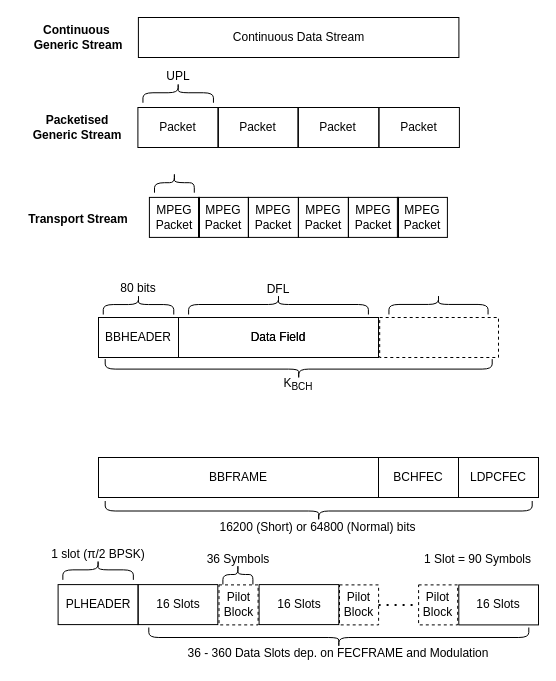
The diagram is 556 pixels wide and 681 high, and some of its shapes have lost their labels. The shapes that lost their labels are listed below. From the top down, each one's centre as x and y in pixels, then its label:
At (x=174, y=182): "188 Bytes".
At (x=438, y=304): "K BCH - DFL - 80 bits".
At (x=438, y=337): "Padding".
